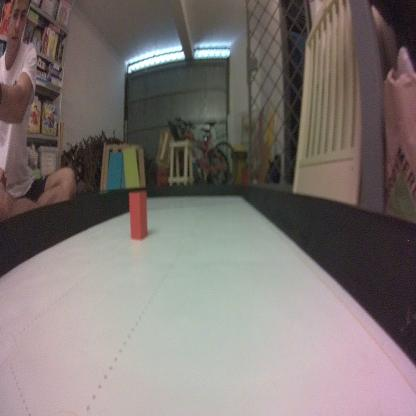red: (128, 190, 149, 242)
